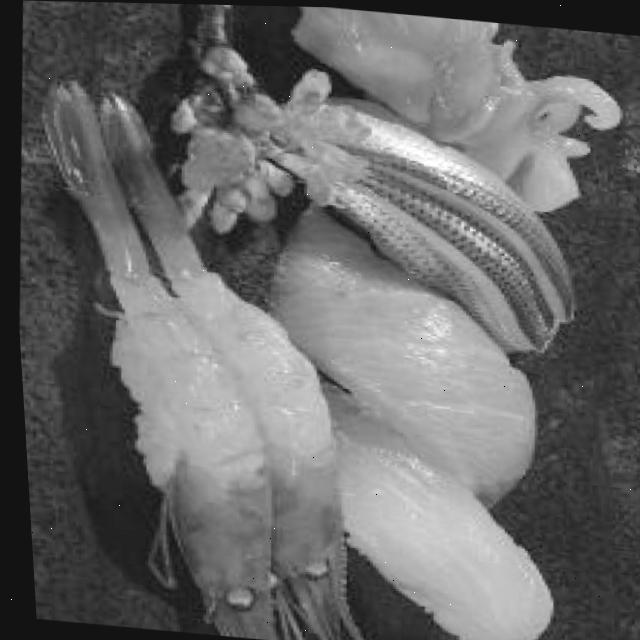寿司卷物: (7, 0, 621, 640)
